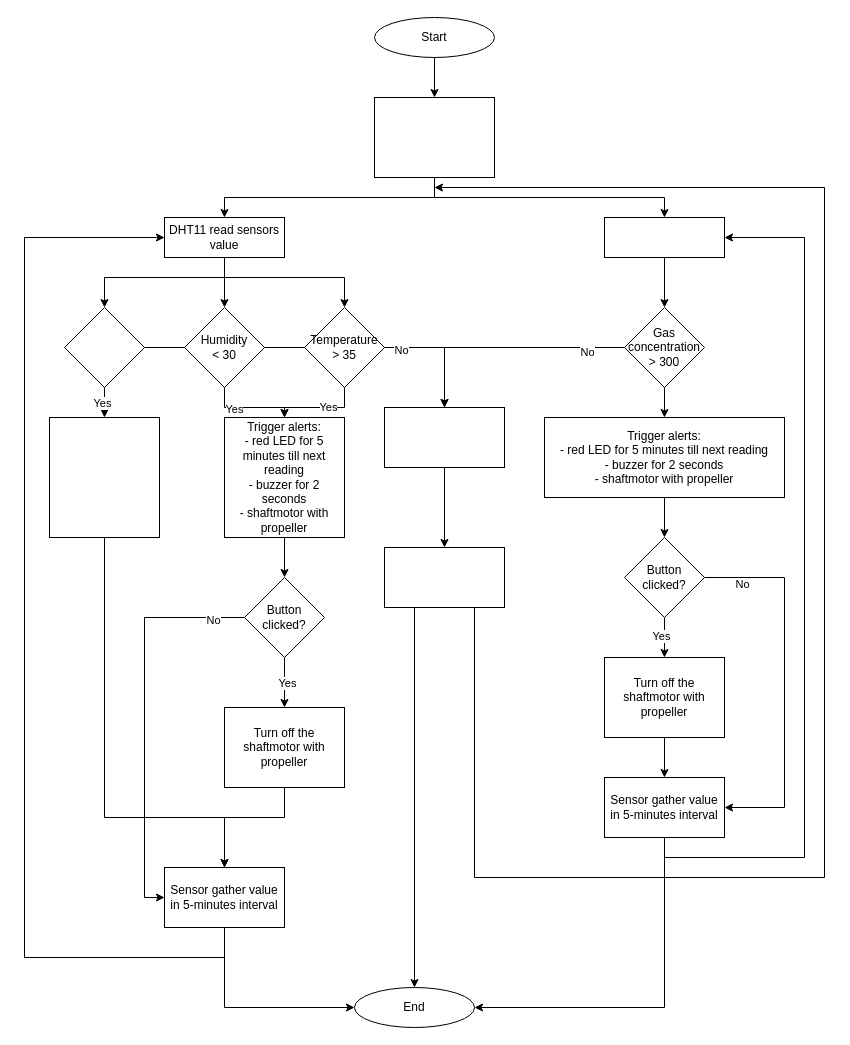
The diagram is 850 pixels wide and 1045 high, and some of its shapes have lost their labels. The centre of each missing label's shape, as x and y in pixels:
"Establish connection between Maker Feather and network" belongs at (x=434, y=137).
"Humidity > 80" belongs at (x=104, y=347).
"MQ2 read sensors value" belongs at (x=664, y=237).
"Sensor gather value in 15-minutes interval" belongs at (x=444, y=577).
"Trigger alert: - yellow LED for 15-minutes" belongs at (x=444, y=437).
"Trigger alerts: - red LED for 5 minutes till next reading - buzzer for 2 seconds" belongs at (x=104, y=477).
